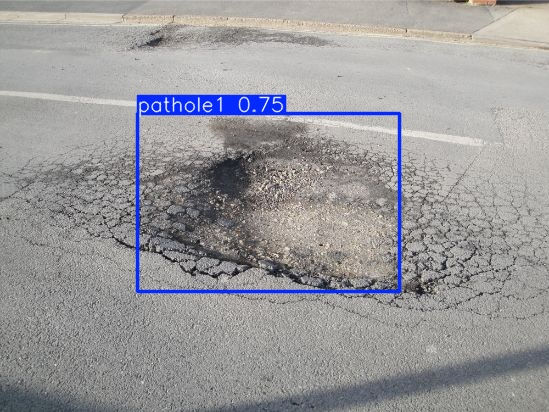pothole: (143, 144, 462, 312)
